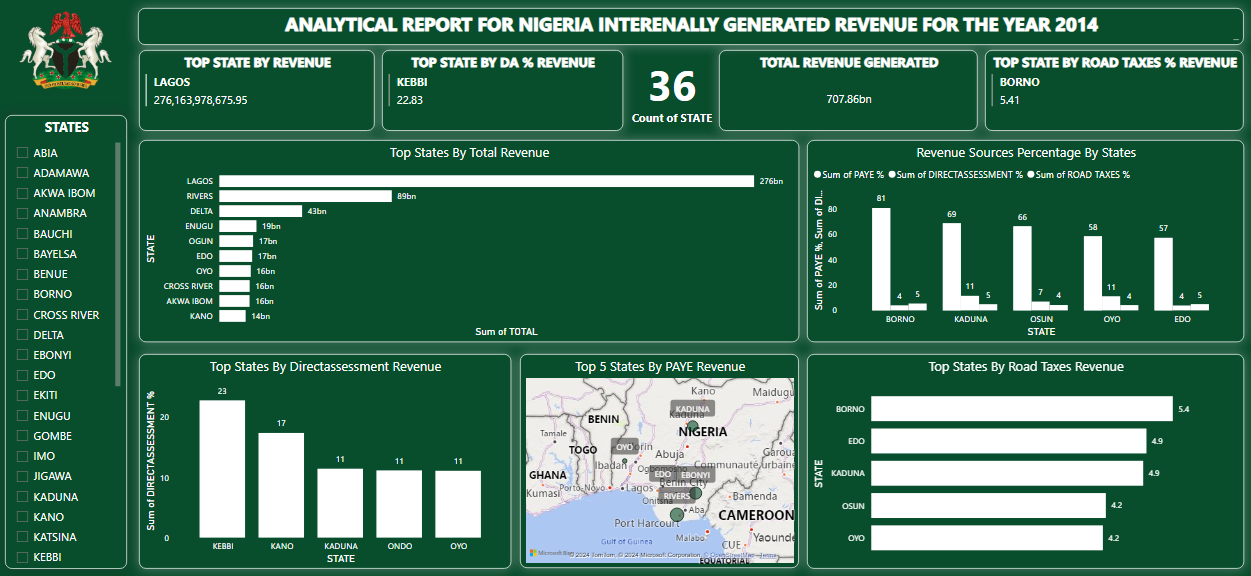

This screenshot's page, from the dashboard's own definition file:
{"tool":"powerbi","page":{"name":"Page 1","canvas":[1800,828],"ordinal":0},"visuals":[{"type":"image","box":[10,12.9,175,121.9],"z":2000},{"type":"card","fields":{"Values":["Count(_DETAILED INTERNALLY GENERATED REVENUE (IGR) 2014________________________ - DETA.STATE)"]},"box":[817.5,73.1,298.3,116.2],"z":11000},{"type":"barChart","title":"Top States By Total Revenue","fields":{"Category":["_DETAILED INTERNALLY GENERATED REVENUE (IGR) 2014________________________ - DETA.STATE"],"Y":["Sum(_DETAILED INTERNALLY GENERATED REVENUE (IGR) 2014________________________ - DETA.TOTAL)"]},"box":[202.2,202.2,946.6,289.7],"z":12500},{"type":"clusteredColumnChart","title":"Revenue Sources Percentage By States","fields":{"Category":["_DETAILED INTERNALLY GENERATED REVENUE (IGR) 2014________________________ - DETA.STATE"],"Y":["Sum(_DETAILED INTERNALLY GENERATED REVENUE (IGR) 2014________________________ - DETA.PAYE %)","Sum(_DETAILED INTERNALLY GENERATED REVENUE (IGR) 2014________________________ - DETA.DIRECTASSESSMENT %)","Sum(_DETAILED INTERNALLY GENERATED REVENUE (IGR) 2014________________________ - DETA.ROAD TAXES %)"]},"box":[1160.3,202.2,626.8,289.7],"z":13000},{"type":"columnChart","title":"Top States By Directassessment Revenue","fields":{"Category":["_DETAILED INTERNALLY GENERATED REVENUE (IGR) 2014________________________ - DETA.STATE"],"Y":["Sum(_DETAILED INTERNALLY GENERATED REVENUE (IGR) 2014________________________ - DETA.DIRECTASSESSMENT %)"]},"box":[202.2,509.2,533.5,308.4],"z":13500},{"type":"map","title":"Top 5 States By PAYE Revenue","fields":{"Category":["_DETAILED INTERNALLY GENERATED REVENUE (IGR) 2014________________________ - DETA.STATE"],"Size":["Sum(_DETAILED INTERNALLY GENERATED REVENUE (IGR) 2014________________________ - DETA.PAYE %)"]},"box":[748.7,509.2,400.2,306.9],"z":14000},{"type":"barChart","title":"Top States By Road Taxes Revenue","fields":{"Category":["_DETAILED INTERNALLY GENERATED REVENUE (IGR) 2014________________________ - DETA.STATE"],"Y":["Sum(_DETAILED INTERNALLY GENERATED REVENUE (IGR) 2014________________________ - DETA.ROAD TAXES %)"]},"box":[1160.3,509.2,626.8,308.4],"z":14500},{"type":"multiRowCard","title":"TOP STATE BY REVENUE","fields":{"Values":["Sum(_DETAILED INTERNALLY GENERATED REVENUE (IGR) 2014________________________ - DETA.TOTAL)","_DETAILED INTERNALLY GENERATED REVENUE (IGR) 2014________________________ - DETA.STATE"]},"box":[202.2,73.1,338.5,116.2],"z":15000},{"type":"multiRowCard","title":"TOP STATE BY DA % REVENUE","fields":{"Values":["Sum(_DETAILED INTERNALLY GENERATED REVENUE (IGR) 2014________________________ - DETA.DIRECTASSESSMENT %)","_DETAILED INTERNALLY GENERATED REVENUE (IGR) 2014________________________ - DETA.STATE"]},"box":[550.8,73.1,345.7,116.2],"z":15500},{"type":"card","title":"TOTAL REVENUE GENERATED","fields":{"Values":["Sum(_DETAILED INTERNALLY GENERATED REVENUE (IGR) 2014________________________ - DETA.TOTAL)"]},"box":[1034.1,73.1,371.5,116.2],"z":16000},{"type":"multiRowCard","title":"TOP STATE BY ROAD TAXES % REVENUE","fields":{"Values":["Sum(_DETAILED INTERNALLY GENERATED REVENUE (IGR) 2014________________________ - DETA.ROAD TAXES %)","_DETAILED INTERNALLY GENERATED REVENUE (IGR) 2014________________________ - DETA.STATE"]},"box":[1415.6,73.1,371.5,116.2],"z":16500},{"type":"textbox","title":"ANALYTICAL REPORT FOR  NIGERIA INTERENALLY GENERATED REVENUE FOR THE YEAR 2014 ","box":[200.8,12.9,1586.3,53.1],"z":17000},{"type":"slicer","title":"STATES","fields":{"Values":["_DETAILED INTERNALLY GENERATED REVENUE (IGR) 2014________________________ - DETA.STATE"]},"box":[10,166.4,175,651.2],"z":17500}]}

Visuals, with their boxes in screenshot pixels (x1, y1, x2, y2), scaled from the page's 1800x828 canvas onto the 1251x576 screenshot:
image: detection(7, 9, 129, 94)
card - Count(_DETAILED INTERNALLY GENERATED REVENUE (IGR) 2014________________________ - DETA.STATE): detection(568, 51, 775, 132)
"Top States By Total Revenue" barChart: detection(141, 141, 798, 342)
"Revenue Sources Percentage By States" clusteredColumnChart: detection(806, 141, 1242, 342)
"Top States By Directassessment Revenue" columnChart: detection(141, 354, 511, 569)
"Top 5 States By PAYE Revenue" map: detection(520, 354, 798, 568)
"Top States By Road Taxes Revenue" barChart: detection(806, 354, 1242, 569)
"TOP STATE BY REVENUE" multiRowCard: detection(141, 51, 376, 132)
"TOP STATE BY DA % REVENUE" multiRowCard: detection(383, 51, 623, 132)
"TOTAL REVENUE GENERATED" card: detection(719, 51, 977, 132)
"TOP STATE BY ROAD TAXES % REVENUE" multiRowCard: detection(984, 51, 1242, 132)
"ANALYTICAL REPORT FOR  NIGERIA INTERENALLY GENERATED REVENUE FOR THE YEAR 2014 " textbox: detection(140, 9, 1242, 46)
"STATES" slicer: detection(7, 116, 129, 569)
